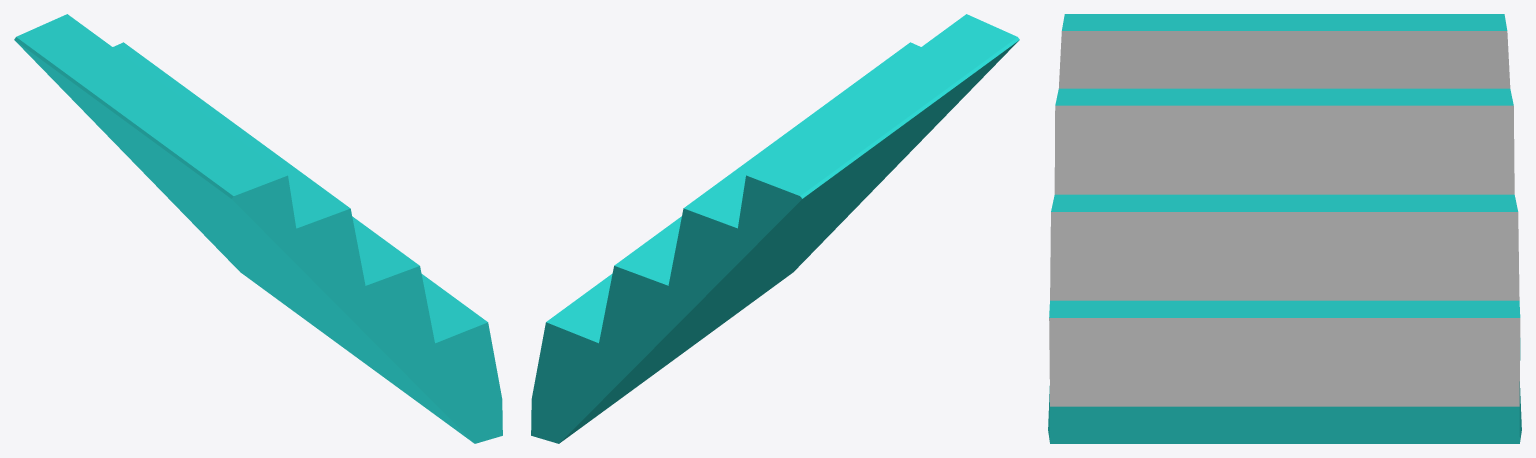
Rendered from VS Lower Rear Door anim.fbx.
3 renders of one model, left to right at view 1: azimuth 30°, elevation 25°; view 2: azimuth 150°, elevation 25°; view 3: azimuth 270°, elevation 25°, orthographic.
Parts seen in each view (by area): view 1: Lower Rear Door; view 2: Lower Rear Door; view 3: Lower Rear Door.
Part boxes in pixels (x1,y1,x2,y2): Lower Rear Door: (14, 14, 502, 443); Lower Rear Door: (531, 14, 1019, 443); Lower Rear Door: (1048, 14, 1521, 443).
Size of the model in its own units: 86.86 by 96.68 by 134.
